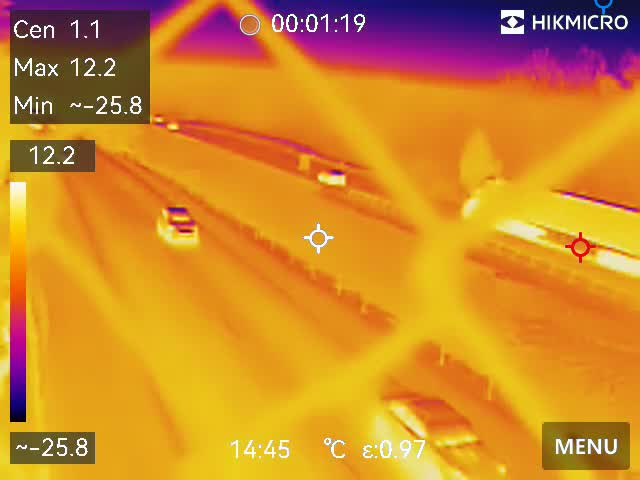heavyTruck: (459, 166, 640, 267)
smallCar: (374, 382, 515, 480)
vehicle: (157, 199, 200, 245), (314, 167, 349, 192), (150, 110, 164, 124), (166, 120, 180, 130)
